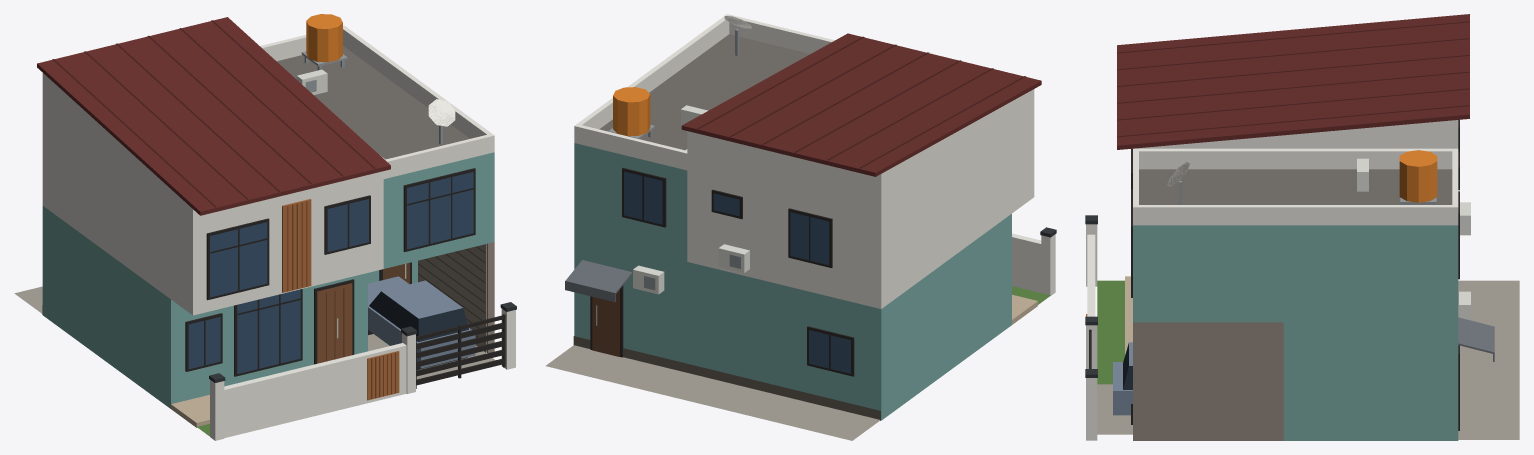
The model's file is rumah2_11.glb.
3 renders of one model, left to right at view 1: azimuth 30°, elevation 25°; view 2: azimuth 150°, elevation 25°; view 3: azimuth 270°, elevation 25°, orthographic. The views are drawn at different scales.
Visible parts, largest first — view 1: rumah2_11; view 2: rumah2_11; view 3: rumah2_11.
Boxes of the visible parts, left/top/right/bottom form: rumah2_11: left=14, top=14, right=516, bottom=440; rumah2_11: left=546, top=14, right=1056, bottom=440; rumah2_11: left=1085, top=14, right=1519, bottom=440.
Bounding box in the file's own units: 9.5 × 7.46 × 10.95.
